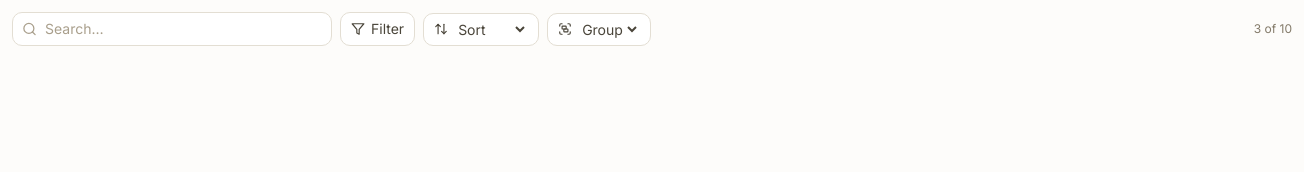
Test: filters › hides the value input for operators that test absence
Click the button "Filter" at (378, 29), box [340,12,415,46]
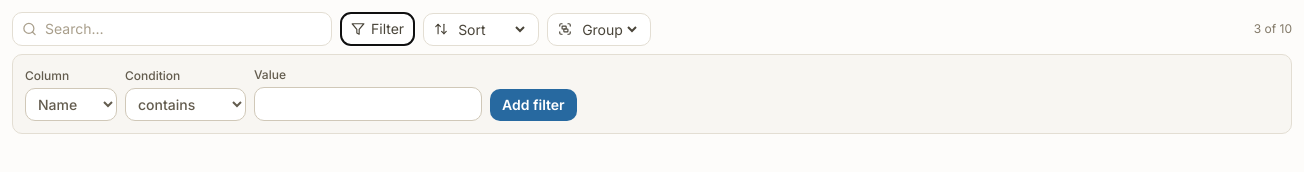
Select "is empty" in the dropdown named "Filter condition" at (186, 104), box [125,88,246,121]
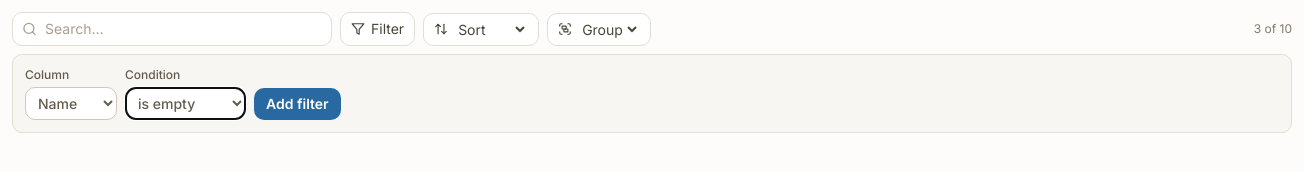
Expected: the field labelled "Filter value" is gone
